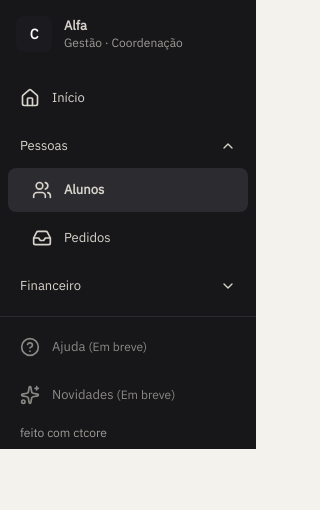
Test: Sidebar › CA1: fundo do token, organização, área, grupos com aria-expanded e item ativo
Expected: the text "Alfa" is shown, [64,17,87,34]
Expected: the text "Gestão · Coordenação" is shown, [64,35,183,51]
Click the button "Financeiro": (128, 286) [8,264,248,308]
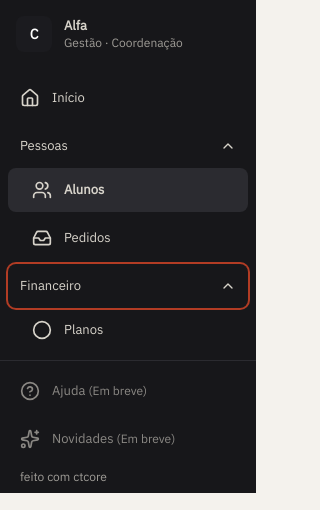
Expected: the button "Financeiro" is expanded, [8,264,248,308]
Expected: the link "Planos" is shown, [32,320,103,340]
